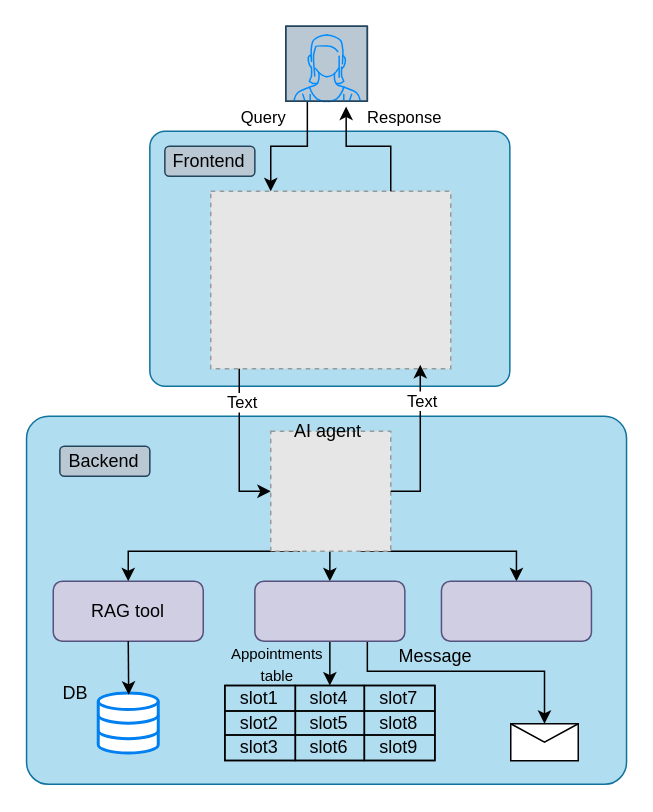
Some shapes in this 653 by 812 pixel diagram are drawn without their labels. Grey dashed boxes stand in for pictures. The shapes that lost their labels are listed below. From the top down, each one's centre as x and y in pixels, then its label:
At pixel 329 610: "Action tools".
At pixel 515 610: "Chat tool".
